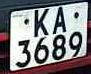3: (15, 38, 32, 67)
6: (32, 36, 50, 65)
8: (51, 33, 68, 61)
9: (68, 30, 83, 59)
A: (52, 5, 68, 36)
K: (31, 7, 50, 38)
